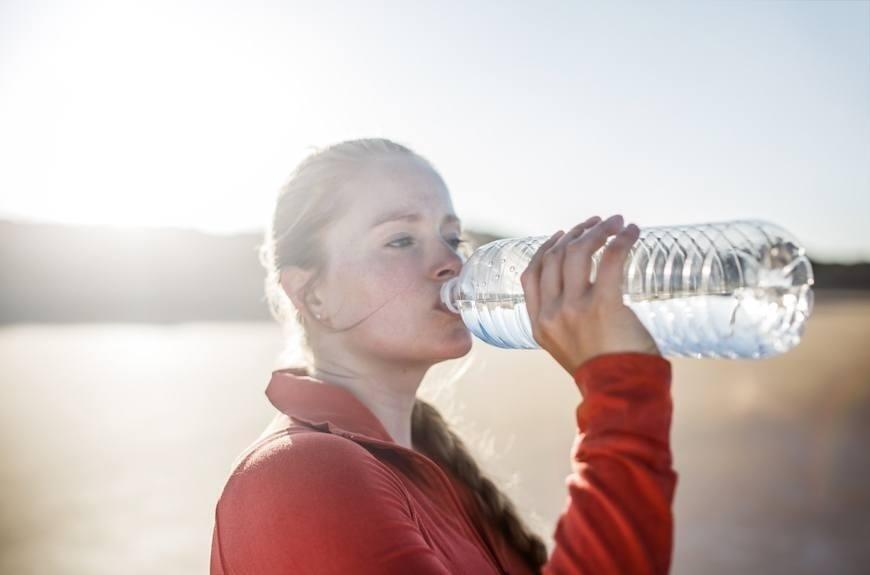bottle-plastic: (441, 209, 814, 371)
